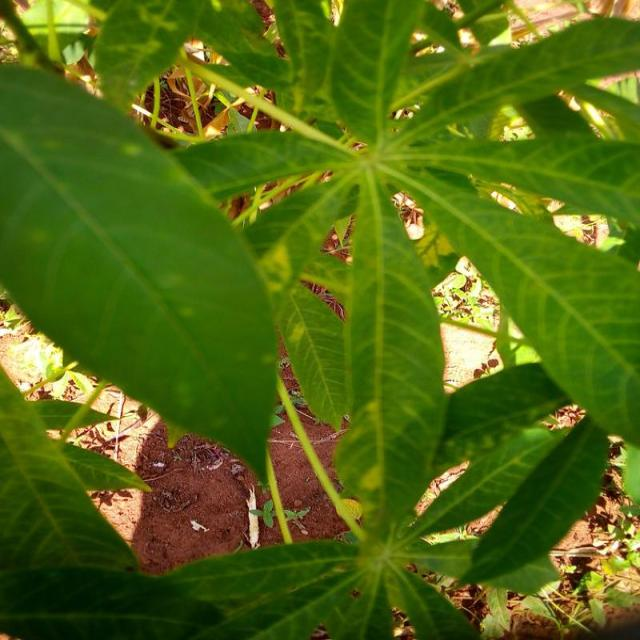cassava leaf: (2, 1, 640, 637), (2, 60, 280, 487)
